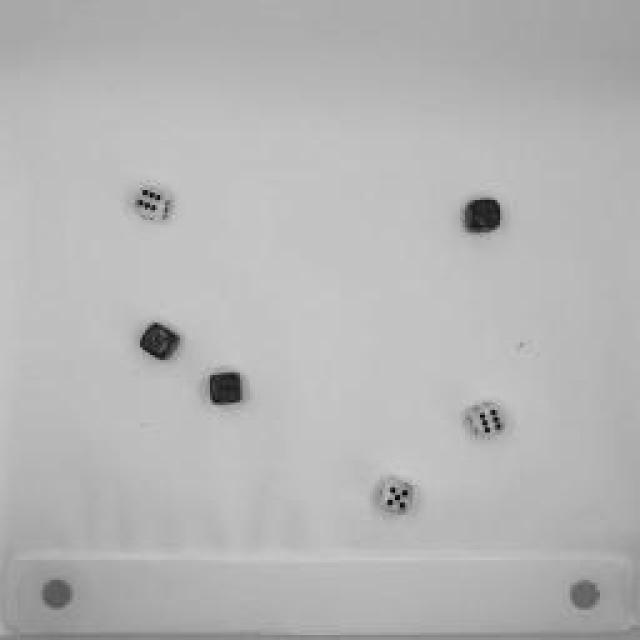dice_3: (132, 319, 182, 361)
dice_4: (464, 195, 504, 235)
dice_5: (375, 472, 420, 518)
dice_6: (128, 180, 178, 225), (462, 398, 510, 442), (206, 368, 246, 408)
